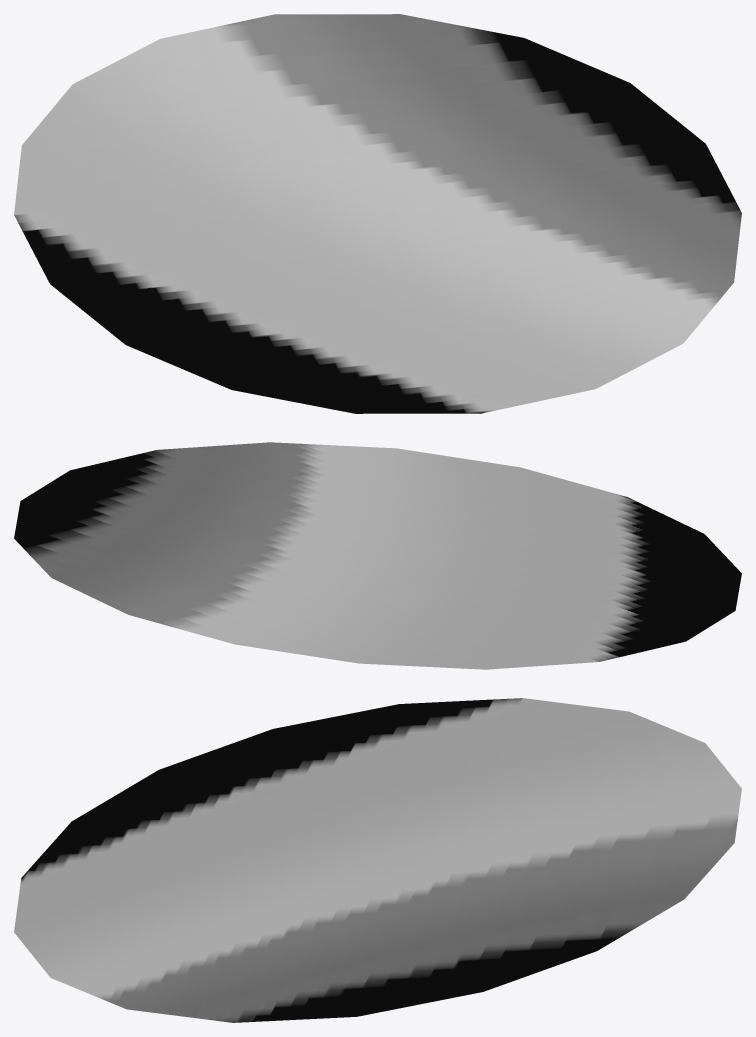
The model's file is original-4.obj.
The picture shows the model from 3 angles, top to bottom: view 1: azimuth 30°, elevation 25°; view 2: azimuth 150°, elevation 25°; view 3: azimuth 270°, elevation 25°; orthographic projection.
Visible parts, largest first — view 1: #ID29; view 2: #ID29; view 3: #ID29.
Boxes of the visible parts, bbox=[...] form: #ID29: bbox=[14, 14, 741, 413]; #ID29: bbox=[14, 442, 741, 669]; #ID29: bbox=[14, 698, 741, 1022].
Size of the model in its own units: 0.039 by 0.00619 by 0.0383.
